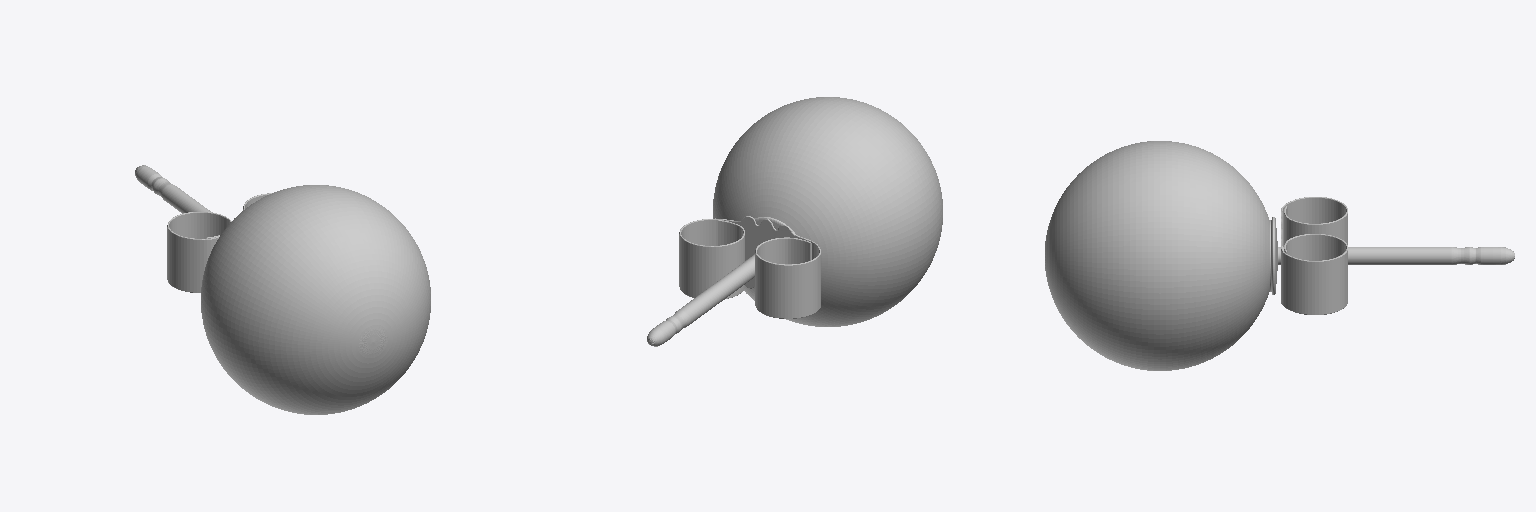
Rendered from ear.obj.
The picture shows the model from 3 angles: view 1: azimuth 30°, elevation 25°; view 2: azimuth 150°, elevation 25°; view 3: azimuth 270°, elevation 25°; orthographic projection.
Visible parts, largest first — view 1: pearl, gold; view 2: pearl, gold; view 3: pearl, gold.
Part boxes in pixels (left/top/right/bottom): pearl: left=201, top=185, right=430, bottom=414; gold: left=135, top=165, right=271, bottom=292; pearl: left=713, top=97, right=942, bottom=326; gold: left=647, top=216, right=820, bottom=346; pearl: left=1045, top=141, right=1269, bottom=370; gold: left=1270, top=197, right=1514, bottom=314.
Size of the model in its own units: 3.98 by 3.98 by 8.15.